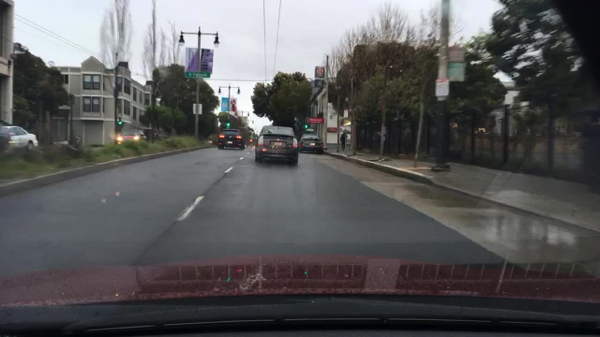car: (255, 125, 300, 166), (0, 125, 38, 149), (217, 129, 246, 151), (113, 129, 147, 147), (298, 133, 324, 155)
person: (340, 131, 349, 152), (51, 140, 72, 146)
traffic light: (71, 94, 76, 104), (118, 117, 123, 126), (227, 122, 230, 129), (304, 123, 307, 129), (250, 140, 252, 144)
traffic sign: (448, 62, 466, 82), (435, 78, 448, 100), (450, 50, 466, 62), (187, 72, 210, 77), (193, 104, 203, 115), (308, 118, 324, 124), (327, 128, 337, 134), (60, 105, 72, 110), (147, 81, 154, 86), (307, 129, 315, 132), (250, 136, 257, 138)
